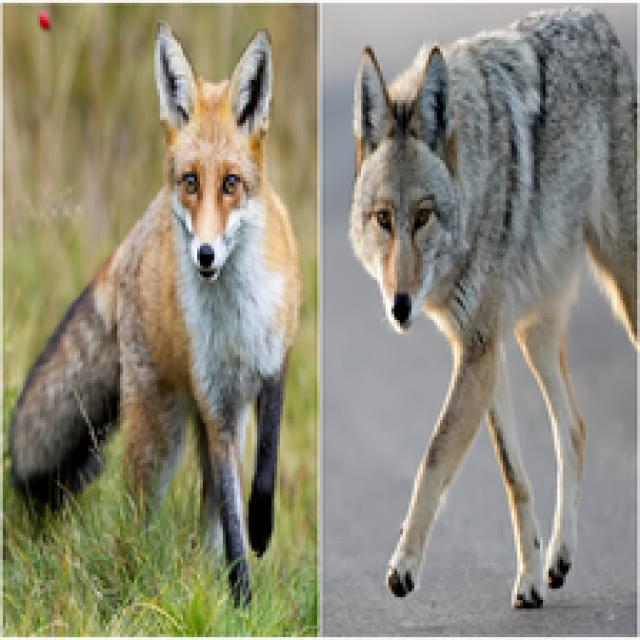fox: (0, 14, 311, 625), (333, 4, 640, 607)
